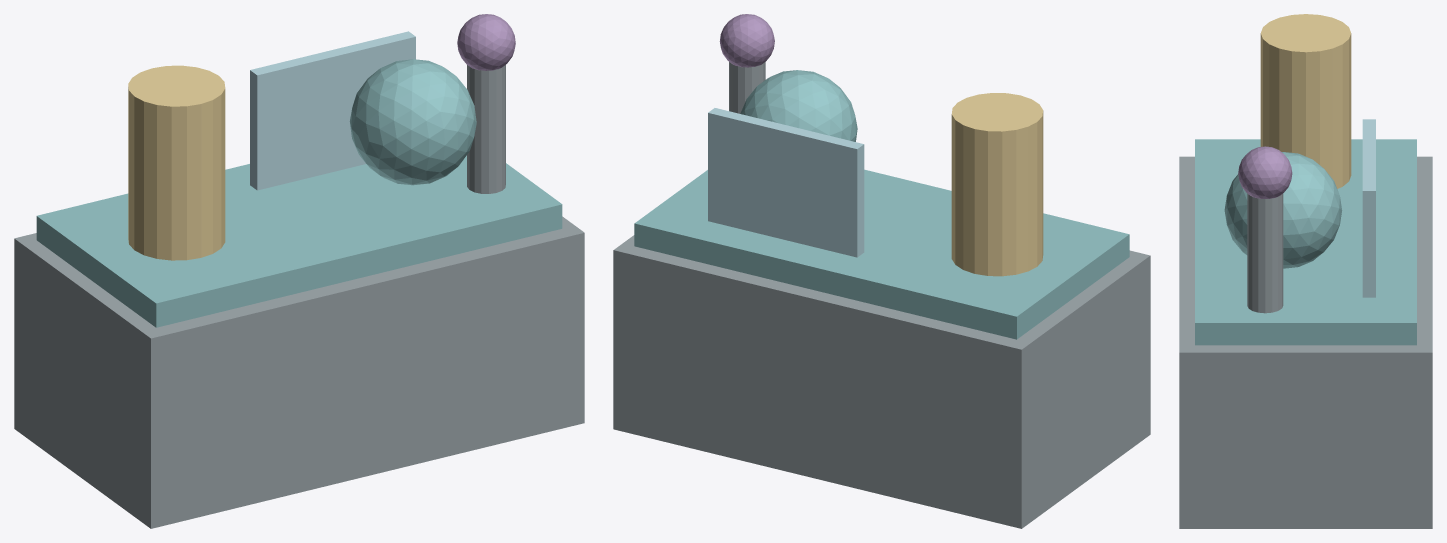
Rendered from future_workbench.glb.
3 renders of one model, left to right at view 1: azimuth 30°, elevation 25°; view 2: azimuth 150°, elevation 25°; view 3: azimuth 270°, elevation 25°, orthographic. The views are drawn at different scales.
Visible parts, largest first — view 1: part_00, part_01, part_02, part_04, part_03, part_05, part_06; view 2: part_00, part_01, part_04, part_02, part_03, part_06, part_05; view 3: part_00, part_01, part_02, part_03, part_05, part_04, part_06.
Boxes of the visible parts, left/top/right/bottom form: part_00: left=14, top=216, right=584, bottom=528; part_01: left=36, top=155, right=562, bottom=327; part_02: left=128, top=65, right=225, bottom=260; part_04: left=250, top=31, right=415, bottom=190; part_03: left=349, top=59, right=476, bottom=185; part_05: left=467, top=65, right=505, bottom=193; part_06: left=457, top=14, right=515, bottom=70; part_00: left=613, top=235, right=1150, bottom=528; part_01: left=634, top=169, right=1129, bottom=339; part_04: left=708, top=108, right=864, bottom=257; part_02: left=951, top=93, right=1043, bottom=276; part_03: left=740, top=70, right=857, bottom=141; part_06: left=719, top=14, right=774, bottom=67; part_05: left=729, top=62, right=765, bottom=113; part_00: left=1179, top=156, right=1432, bottom=528; part_01: left=1195, top=139, right=1416, bottom=345; part_02: left=1260, top=14, right=1351, bottom=188; part_03: left=1224, top=152, right=1342, bottom=268; part_05: left=1247, top=193, right=1283, bottom=313; part_04: left=1362, top=119, right=1375, bottom=297; part_06: left=1238, top=146, right=1292, bottom=198.
Bounding box in the file's own units: 2.05 × 1.74 × 1.12.
